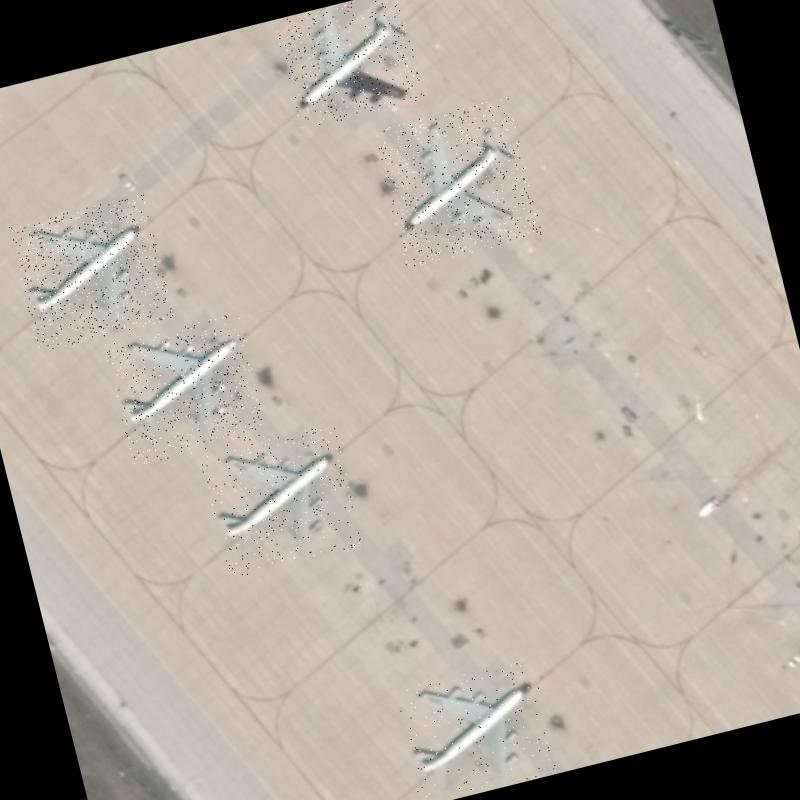A11: (372, 96, 542, 268), (8, 193, 174, 352), (102, 310, 268, 469), (197, 423, 364, 579), (392, 656, 560, 800), (274, 0, 425, 130)
